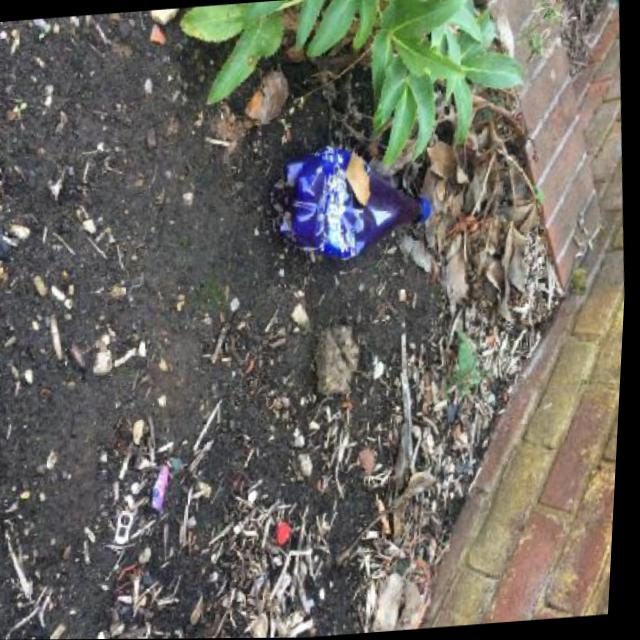plastic: (262, 137, 435, 266)
